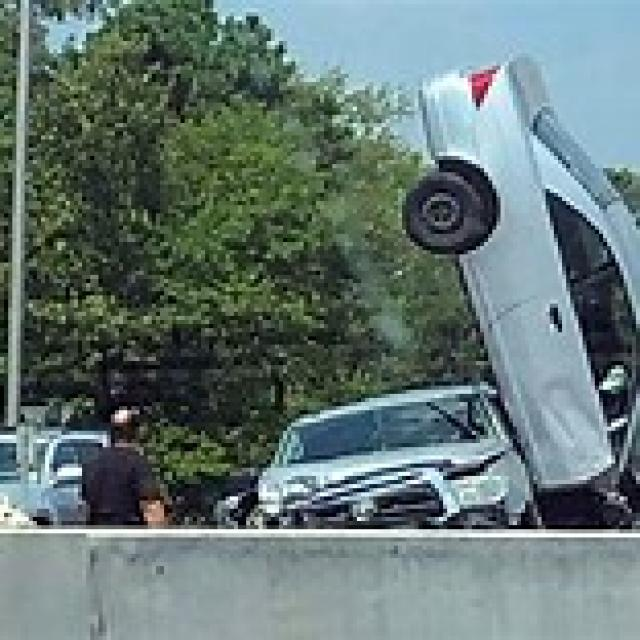Accident: (90, 85, 640, 548)
